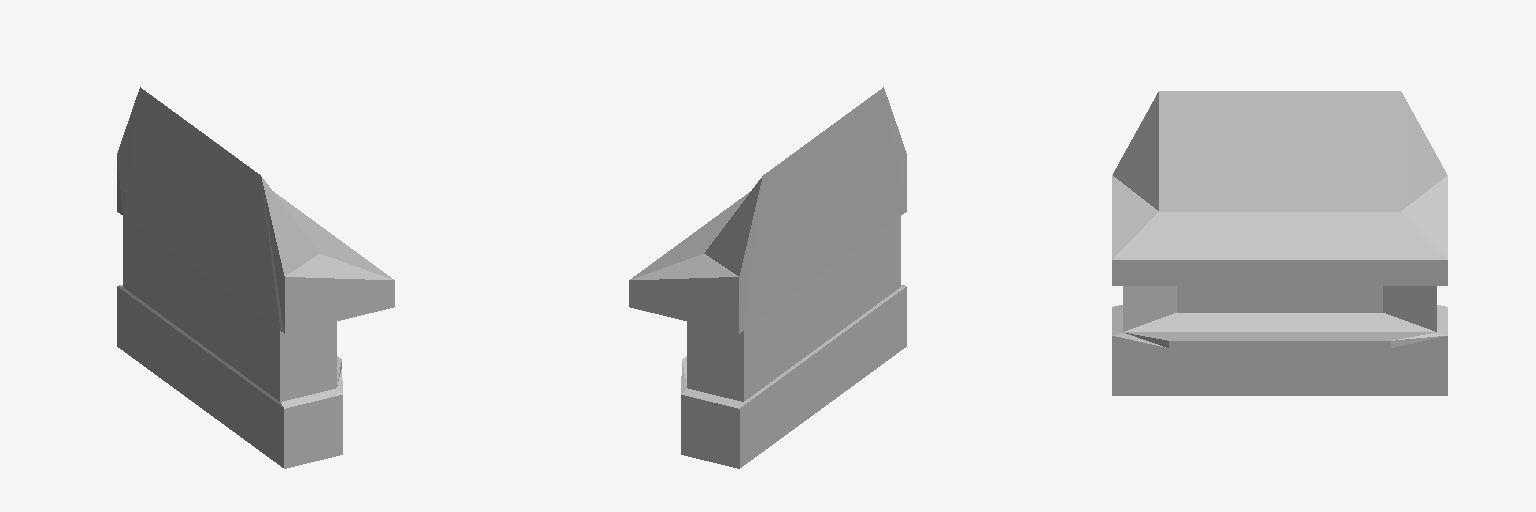
File: static_forward_4.obj
3 views of the same model, side by side, from view 1: azimuth 30°, elevation 25°; view 2: azimuth 150°, elevation 25°; view 3: azimuth 270°, elevation 25° (orthographic).
Parts seen in each view (by area): view 1: Cube_Cube.008; view 2: Cube_Cube.008; view 3: Cube_Cube.008.
Boxes of the visible parts, x1=… form: Cube_Cube.008: x1=117, y1=87, x2=394, y2=468; Cube_Cube.008: x1=629, y1=87, x2=906, y2=468; Cube_Cube.008: x1=1112, y1=91, x2=1447, y2=395.
Size of the model in its own units: 3.78 by 9 by 9.91.